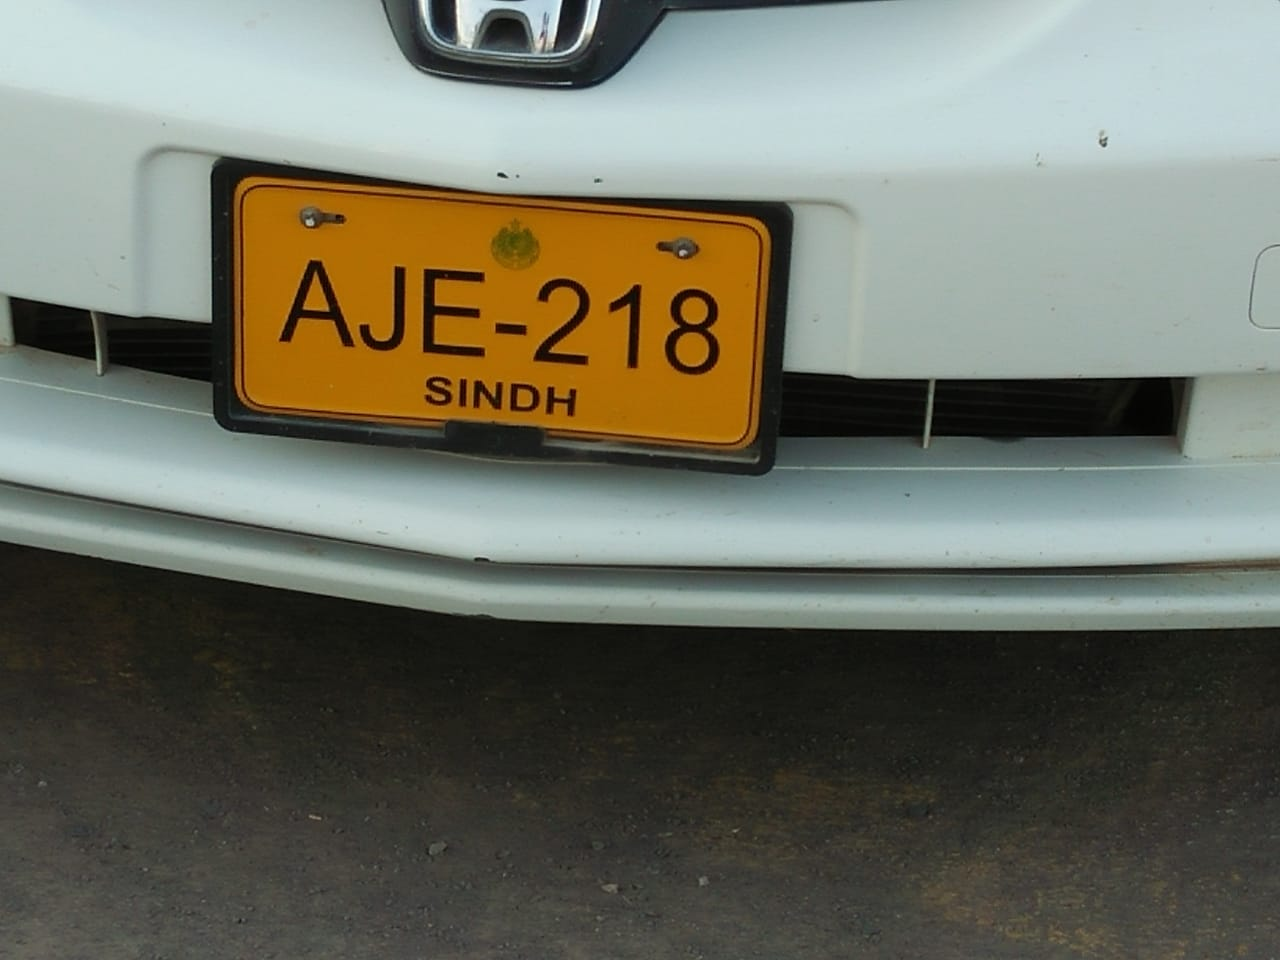license plate: (219, 171, 793, 459)
